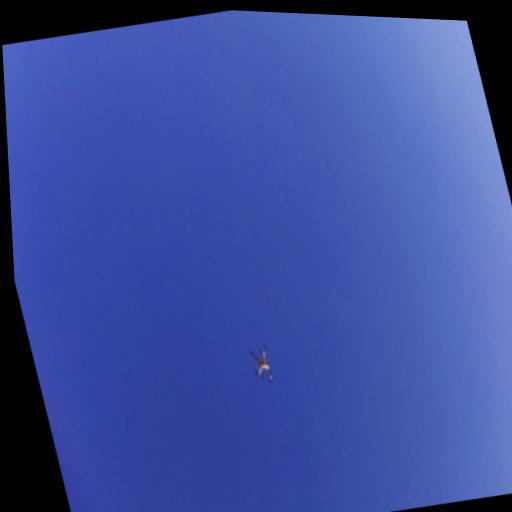drones: (244, 338, 280, 390)
